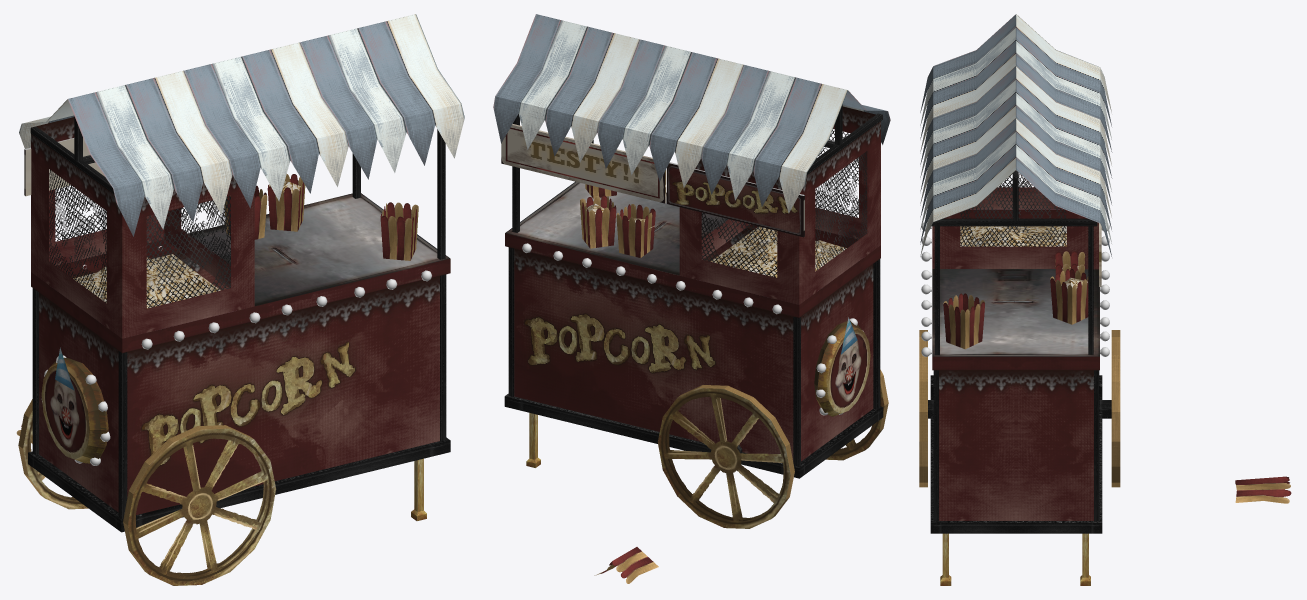
File: pop_corn_shop.fbx
3 renders of one model, left to right at view 1: azimuth 30°, elevation 25°; view 2: azimuth 150°, elevation 25°; view 3: azimuth 270°, elevation 25°, orthographic. The views are drawn at different scales.
Visible parts, largest first — view 1: Plane.020, Plane.027; view 2: Plane.020, Plane.027, Plane.023; view 3: Plane.020, Plane.027, Plane.023.
Boxes of the visible parts, left/top/right/bottom form: Plane.020: left=18, top=14, right=464, bottom=585; Plane.027: left=267, top=174, right=305, bottom=231; Plane.020: left=493, top=14, right=890, bottom=528; Plane.027: left=580, top=195, right=616, bottom=248; Plane.023: left=594, top=547, right=658, bottom=583; Plane.020: left=919, top=14, right=1120, bottom=585; Plane.027: left=1050, top=269, right=1088, bottom=324; Plane.023: left=1235, top=476, right=1291, bottom=503.
Size of the model in its own units: 118 by 117 by 149.
